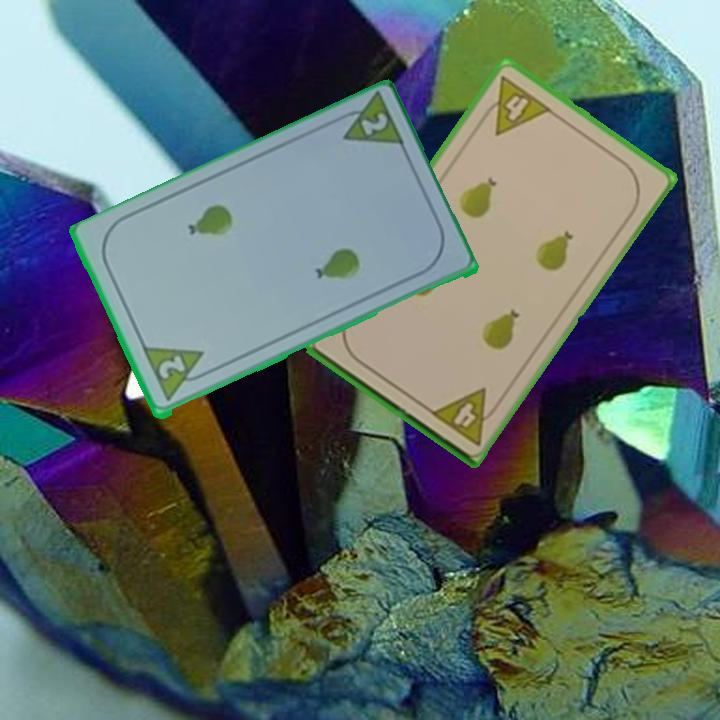2p: (329, 91, 408, 153), (154, 352, 189, 383)
4p: (474, 72, 554, 138), (426, 384, 504, 448)
